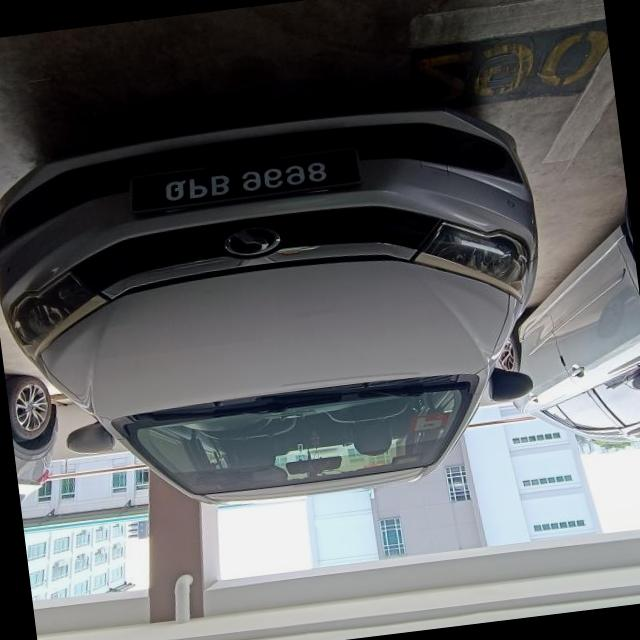PeroduaBezza: (0, 90, 568, 532)
